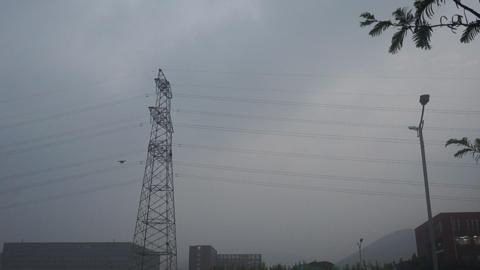UAV: (118, 160, 126, 164)
